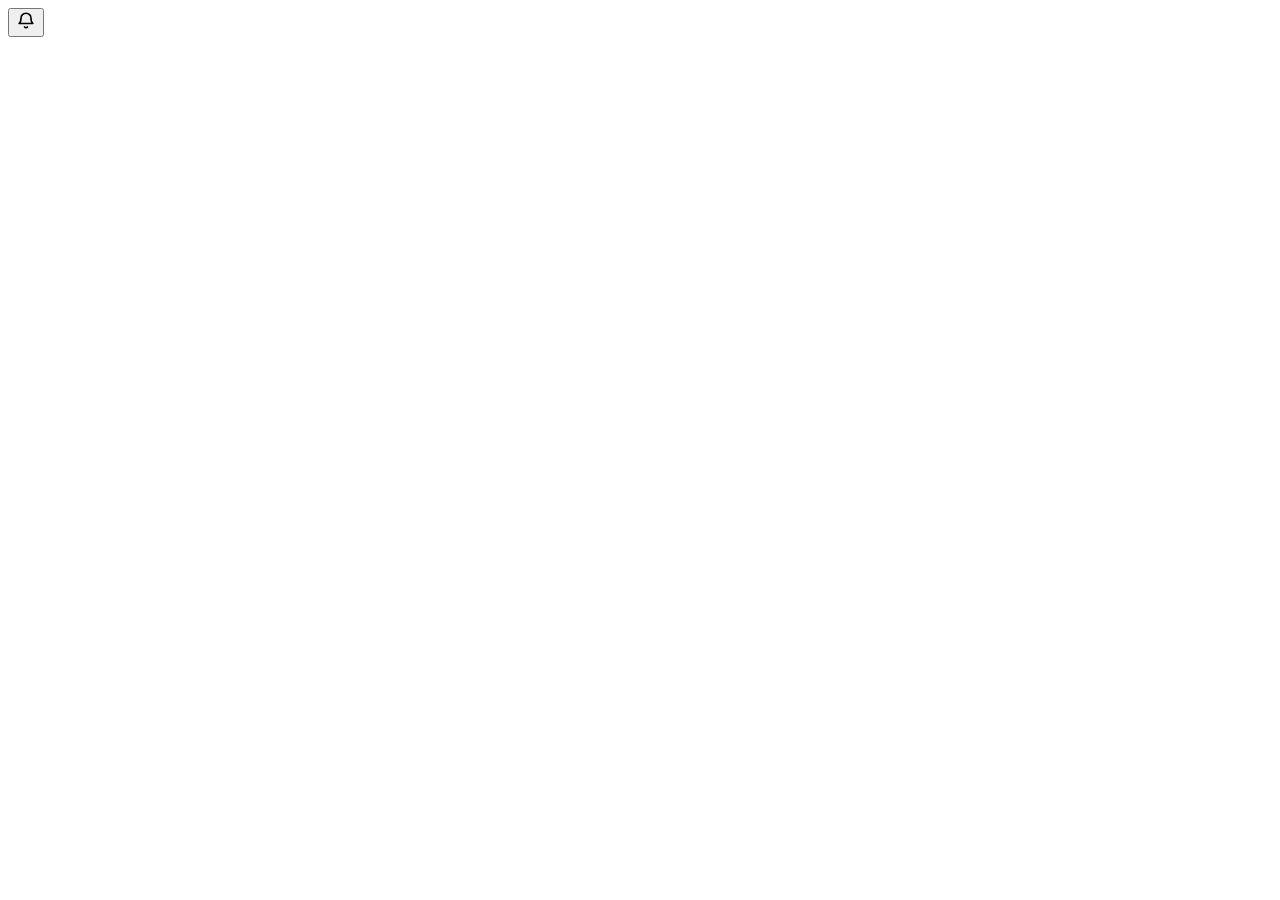
Test case: does not show push as on until the server has confirmed the device
Later steps or results of the test are not shown.
Click the button named "Notifications": x=26, y=22 [8,8,44,37]
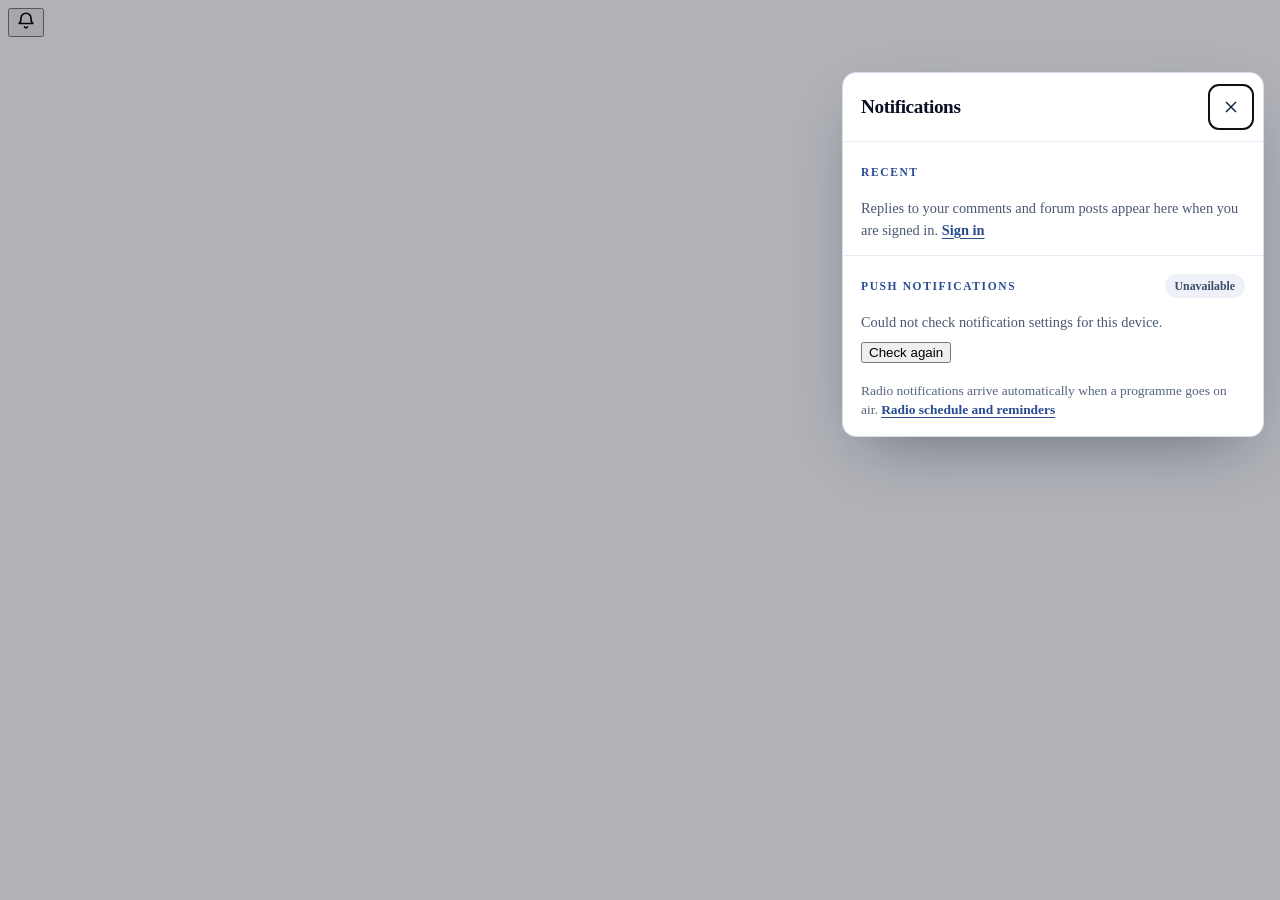
Check: the dialog shows "Could not check notification settings for this device.", box [861,314,1162,330]
